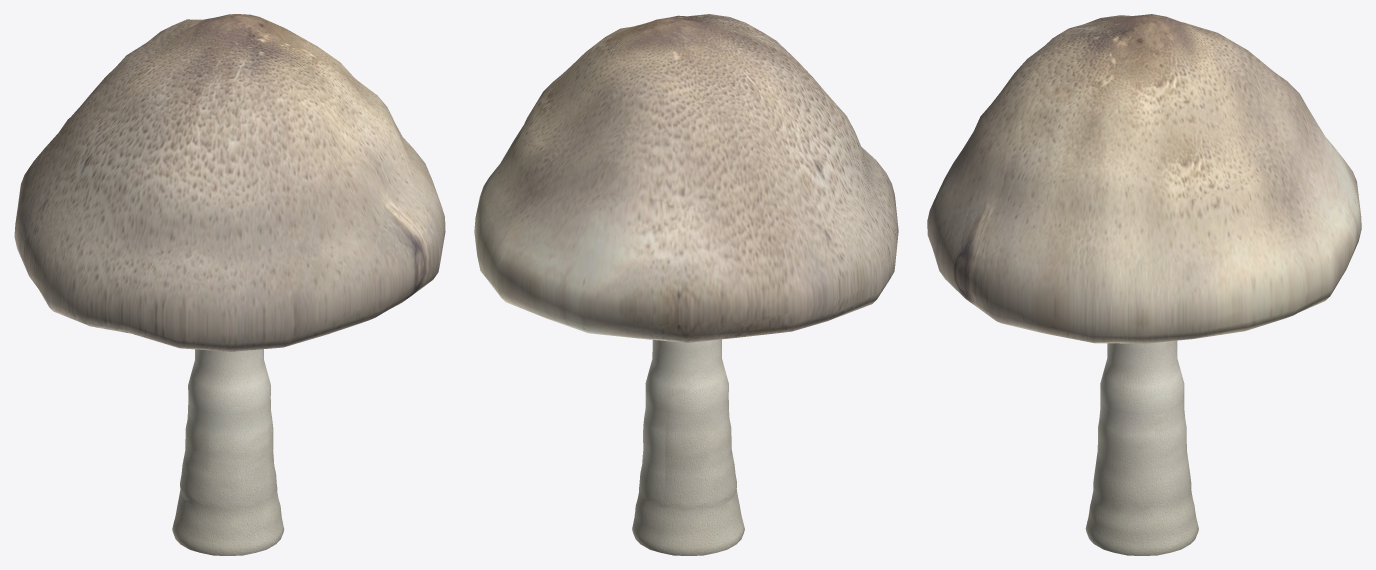
File: mapsMorph4.FBX
The picture shows the model from 3 angles, left to right: view 1: azimuth 30°, elevation 25°; view 2: azimuth 150°, elevation 25°; view 3: azimuth 270°, elevation 25°; orthographic projection.
Parts seen in each view (by area): view 1: Mushroom01a_1; view 2: Mushroom01a_1; view 3: Mushroom01a_1.
Part boxes in pixels (<box>): Mushroom01a_1: <box>14,14,445,555</box>; Mushroom01a_1: <box>474,14,898,555</box>; Mushroom01a_1: <box>927,14,1361,555</box>.
Size of the model in its own units: 140 by 183 by 139.
Materials: 3 (3 with a texture image).
